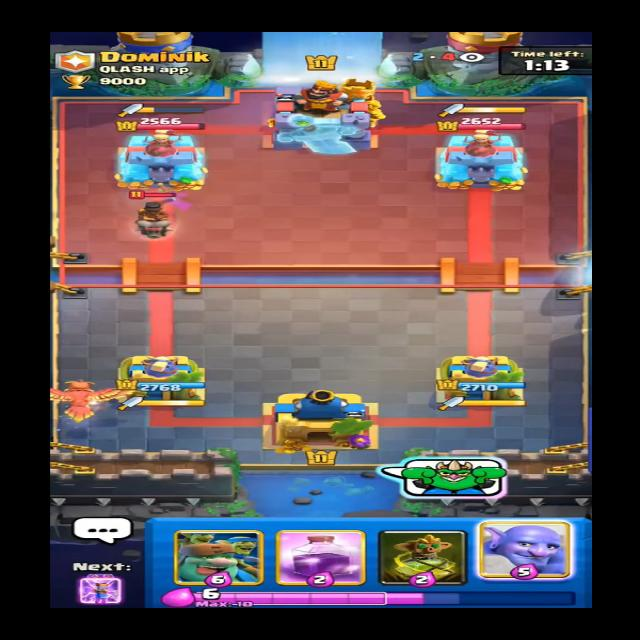Ramrider: (128, 192, 176, 236)
